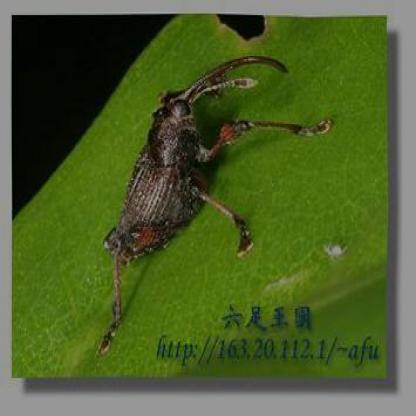rice-bug: (102, 69, 260, 286)
